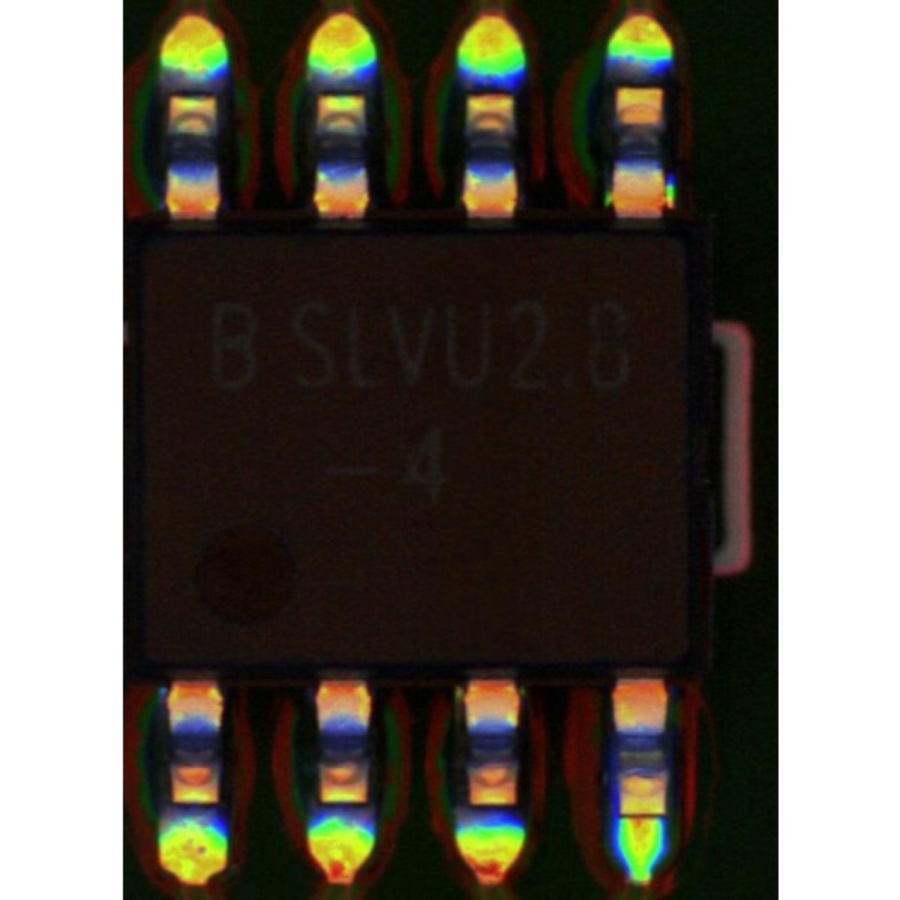Bad_podu: (619, 803, 661, 827)
